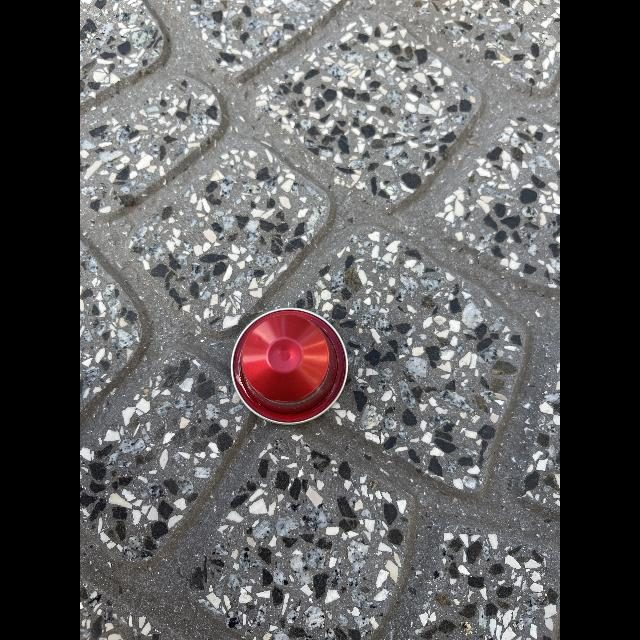intact_capsule: (218, 296, 366, 436)
